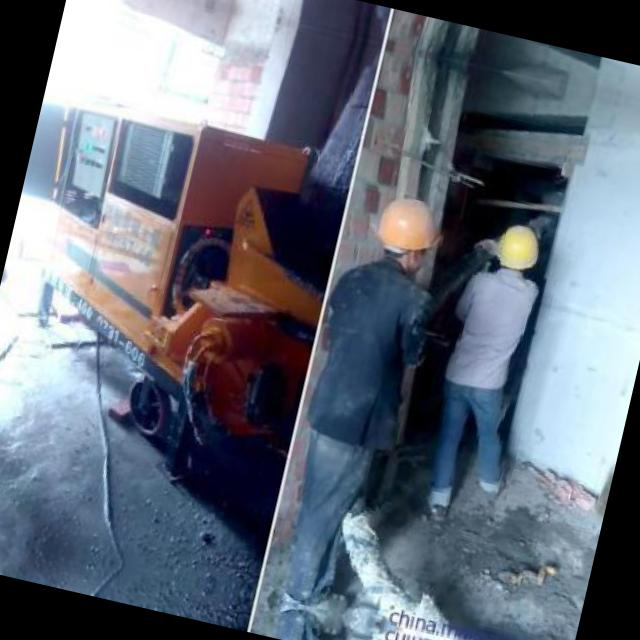helmet: (369, 188, 447, 278), (486, 215, 544, 278)
